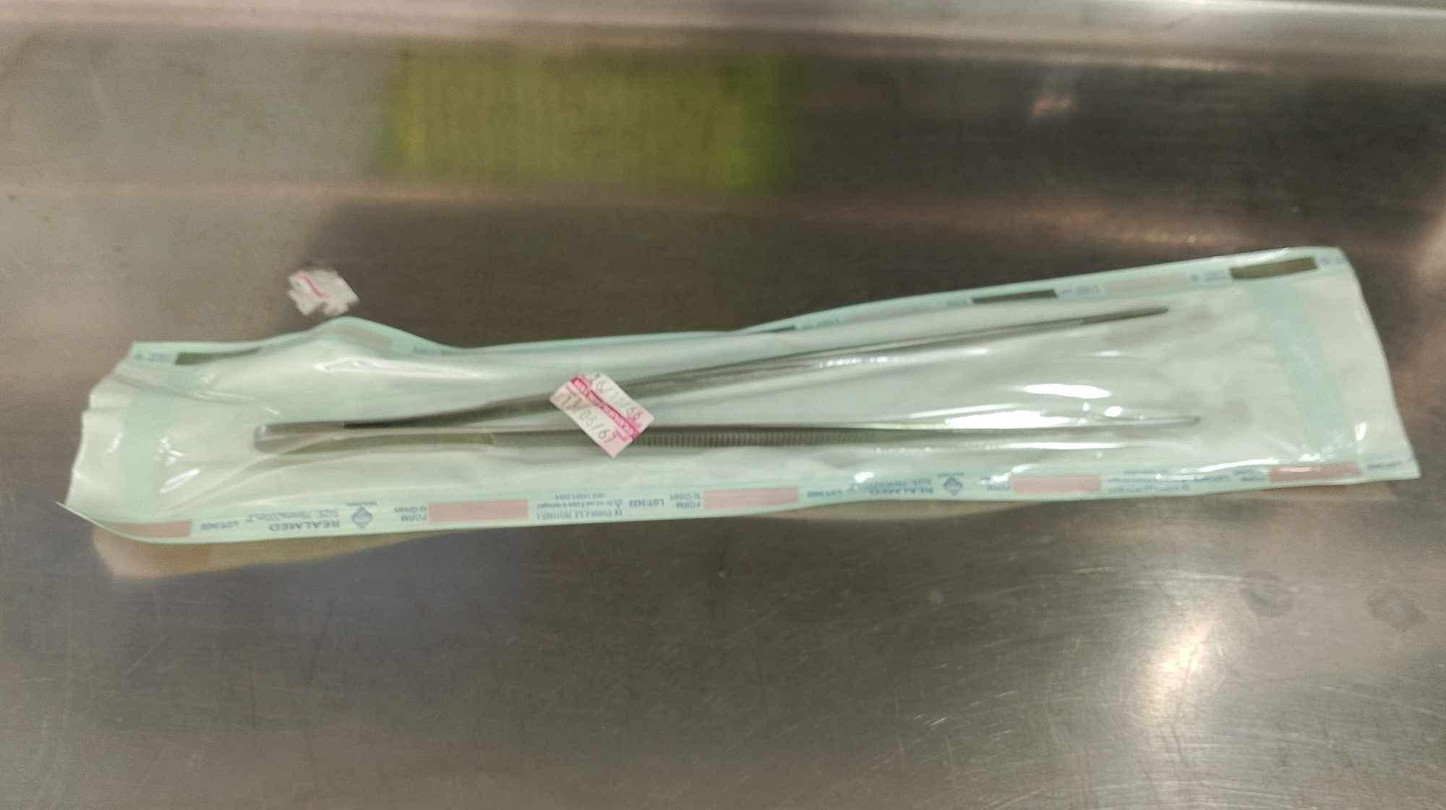General: (56, 242, 1422, 547)
Sharps: (253, 298, 1192, 455)
